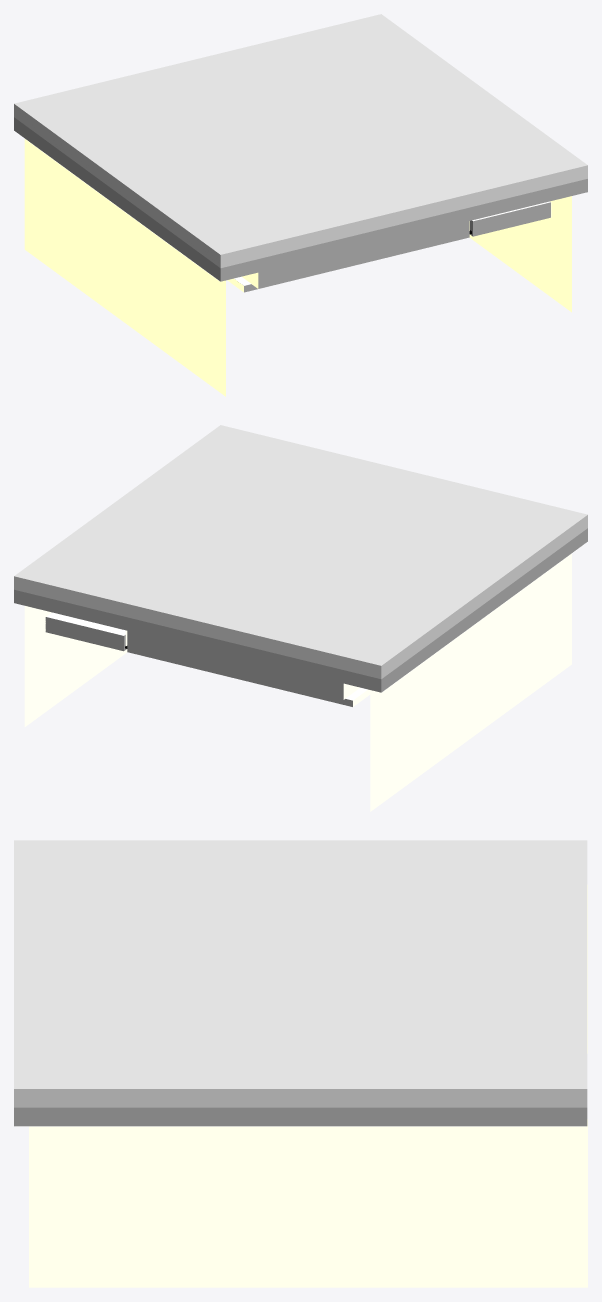
3 views of the same model, one above another, from view 1: azimuth 30°, elevation 25°; view 2: azimuth 150°, elevation 25°; view 3: azimuth 270°, elevation 25° (orthographic). The views are drawn at different scales.
Visible parts, largest first — view 1: HIT-07_UpImpluvium, IndirectLight:0, MainModel:0, IndirectLight:1; view 2: HIT-07_UpImpluvium, IndirectLight:0, MainModel:0, MainLight:0, IndirectLight:1; view 3: HIT-07_UpImpluvium, IndirectLight:0, MainModel:0.
Part boxes in pixels (bbox=[...]): HIT-07_UpImpluvium: bbox=[14, 14, 587, 268]; IndirectLight:0: bbox=[24, 139, 571, 396]; MainModel:0: bbox=[14, 117, 587, 292]; IndirectLight:1: bbox=[14, 131, 551, 292]; HIT-07_UpImpluvium: bbox=[14, 425, 587, 679]; IndirectLight:0: bbox=[24, 554, 571, 811]; MainModel:0: bbox=[14, 528, 587, 706]; MainLight:0: bbox=[46, 612, 367, 700]; IndirectLight:1: bbox=[46, 542, 587, 706]; HIT-07_UpImpluvium: bbox=[14, 840, 587, 1107]; IndirectLight:0: bbox=[29, 884, 587, 1287]; MainModel:0: bbox=[14, 1107, 587, 1126].
Size of the model in its own units: 1.67 by 0.643 by 1.62.
Materials: 5 (1 with a texture image).
